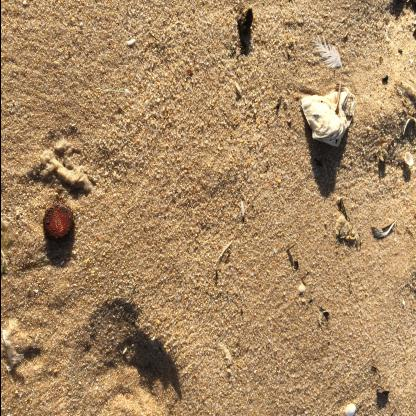metal: (43, 201, 72, 241)
